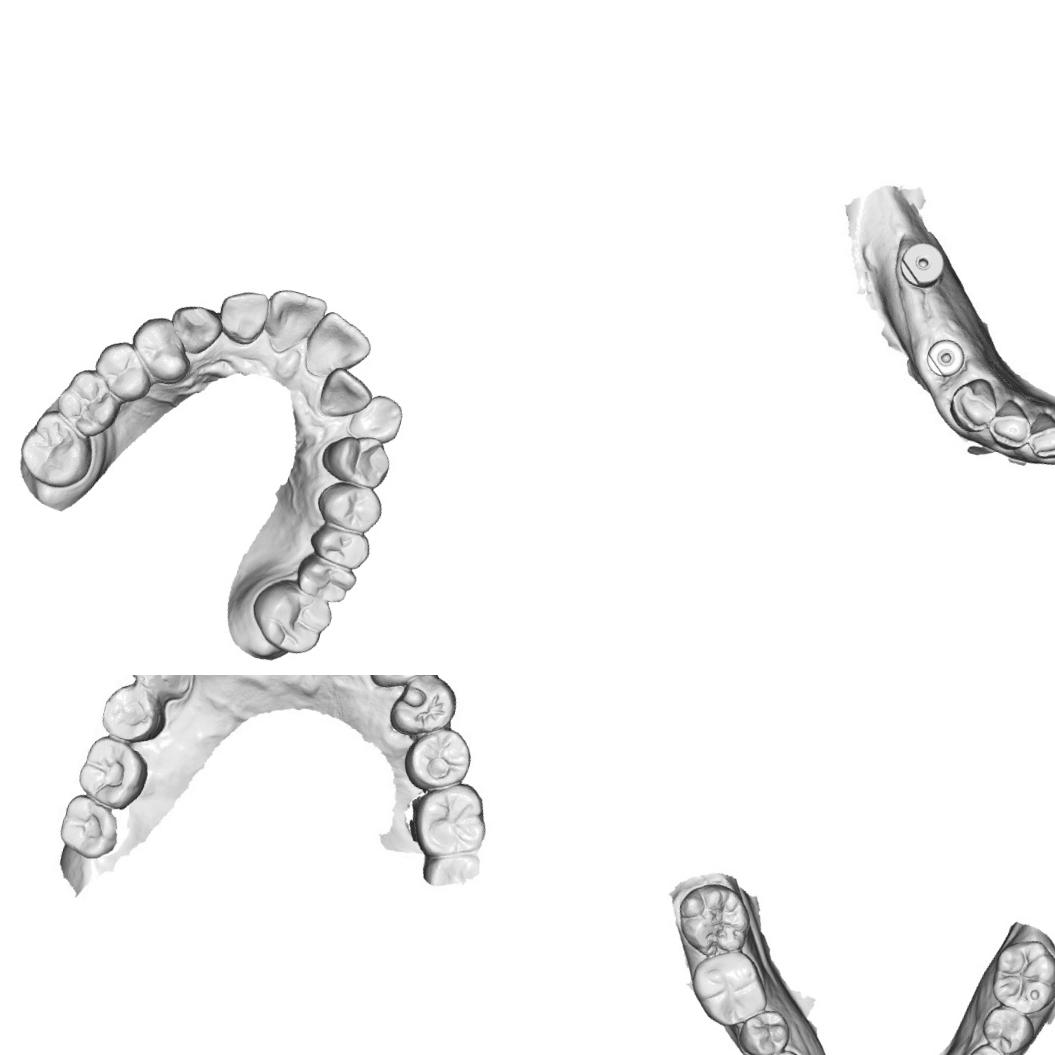canine: (944, 371, 1007, 443), (161, 294, 229, 360), (342, 386, 408, 449), (118, 675, 207, 710), (361, 675, 429, 698)
implant: (892, 236, 955, 296), (921, 333, 970, 383)
incisor: (297, 304, 379, 390), (255, 282, 330, 362), (313, 361, 379, 426), (211, 282, 273, 348), (988, 392, 1040, 450), (1024, 405, 1055, 464)
molar: (680, 938, 780, 1036), (241, 568, 341, 662), (666, 873, 763, 966), (12, 402, 102, 496), (46, 359, 129, 444), (412, 778, 492, 864), (982, 929, 1055, 1022), (77, 736, 150, 812), (57, 792, 124, 862), (290, 550, 362, 608), (306, 518, 376, 574)
premolar: (120, 308, 202, 389), (84, 334, 161, 408), (316, 424, 396, 494), (310, 474, 388, 536), (407, 723, 472, 788), (100, 679, 165, 743), (392, 675, 458, 738), (973, 998, 1040, 1055), (730, 1000, 796, 1055), (957, 1038, 1015, 1055), (752, 1041, 811, 1055)
